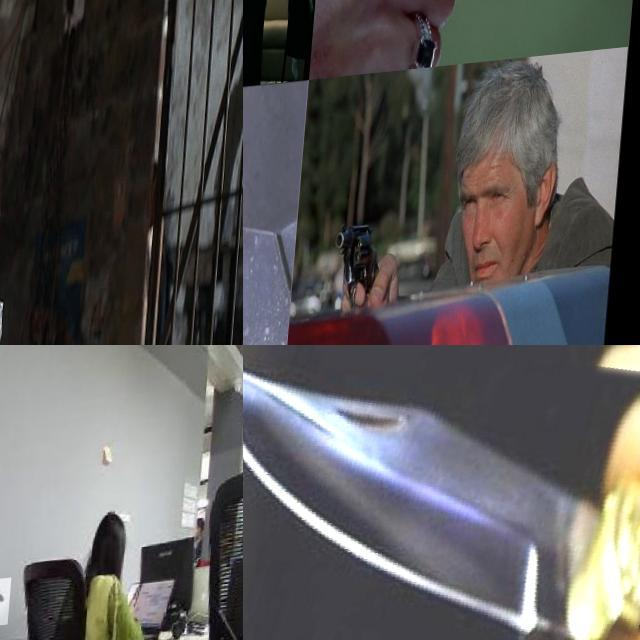-: (243, 345, 640, 640), (0, 585, 34, 638)
gun-knife-thesis - v11 Yolov5 augmented: (324, 0, 638, 146), (334, 218, 408, 326), (0, 208, 49, 345), (243, 256, 283, 345), (285, 0, 308, 17), (243, 0, 255, 19)
